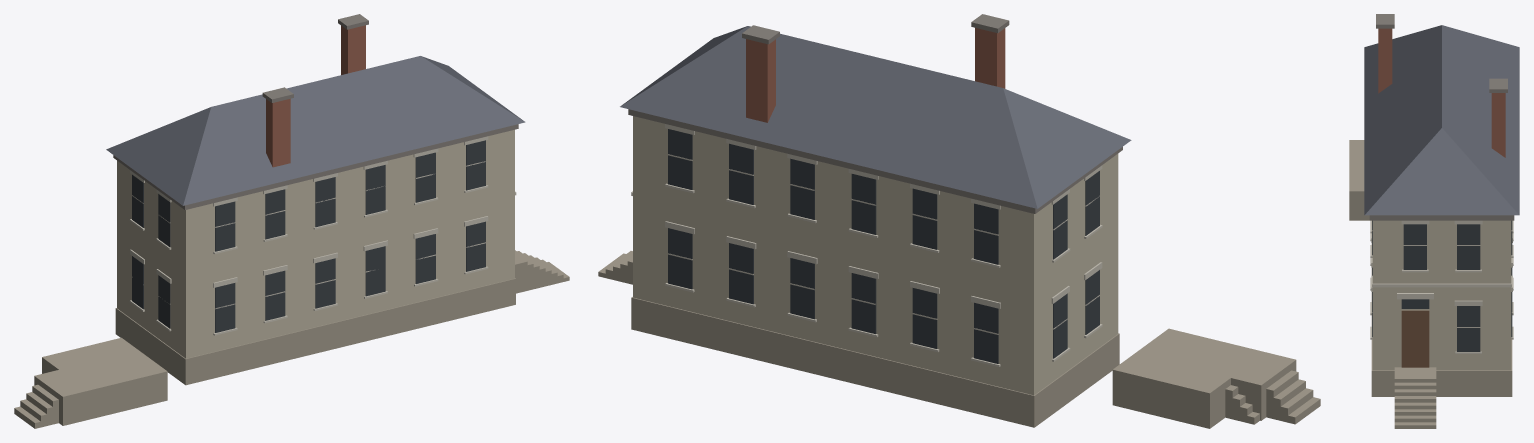
The model's file is house_2119_indiana__draft_1904.glb.
The picture shows the model from 3 angles, left to right: view 1: azimuth 30°, elevation 25°; view 2: azimuth 150°, elevation 25°; view 3: azimuth 270°, elevation 25°; orthographic projection. The views are drawn at different scales.
Visible parts, largest first — view 1: house_2119_indiana__draft_1904; view 2: house_2119_indiana__draft_1904; view 3: house_2119_indiana__draft_1904.
Boxes of the visible parts, x1,y1,x2,y2 form: house_2119_indiana__draft_1904: (14, 14, 569, 428); house_2119_indiana__draft_1904: (598, 14, 1320, 428); house_2119_indiana__draft_1904: (1349, 14, 1519, 428).
Bounding box in the file's own units: 27.75 × 12.6 × 7.35.
